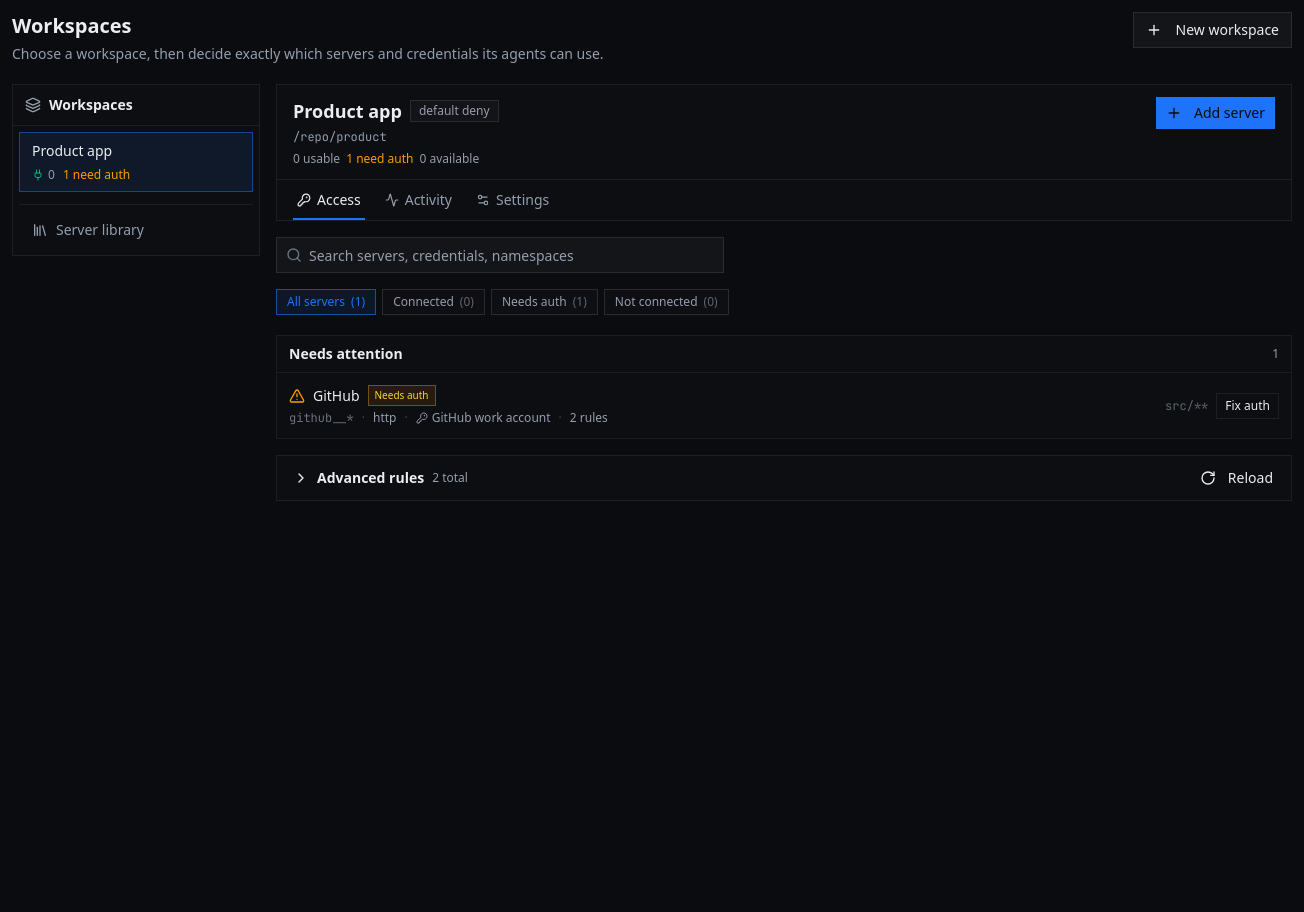
unified workspace console › switches from access to inline settings without leaving the console
Check: the heading "Product app" is shown, box [293,97,402,125]
Click the button with test id "workspace-section-settings" at coordinates (513, 200), box [464,180,561,220]
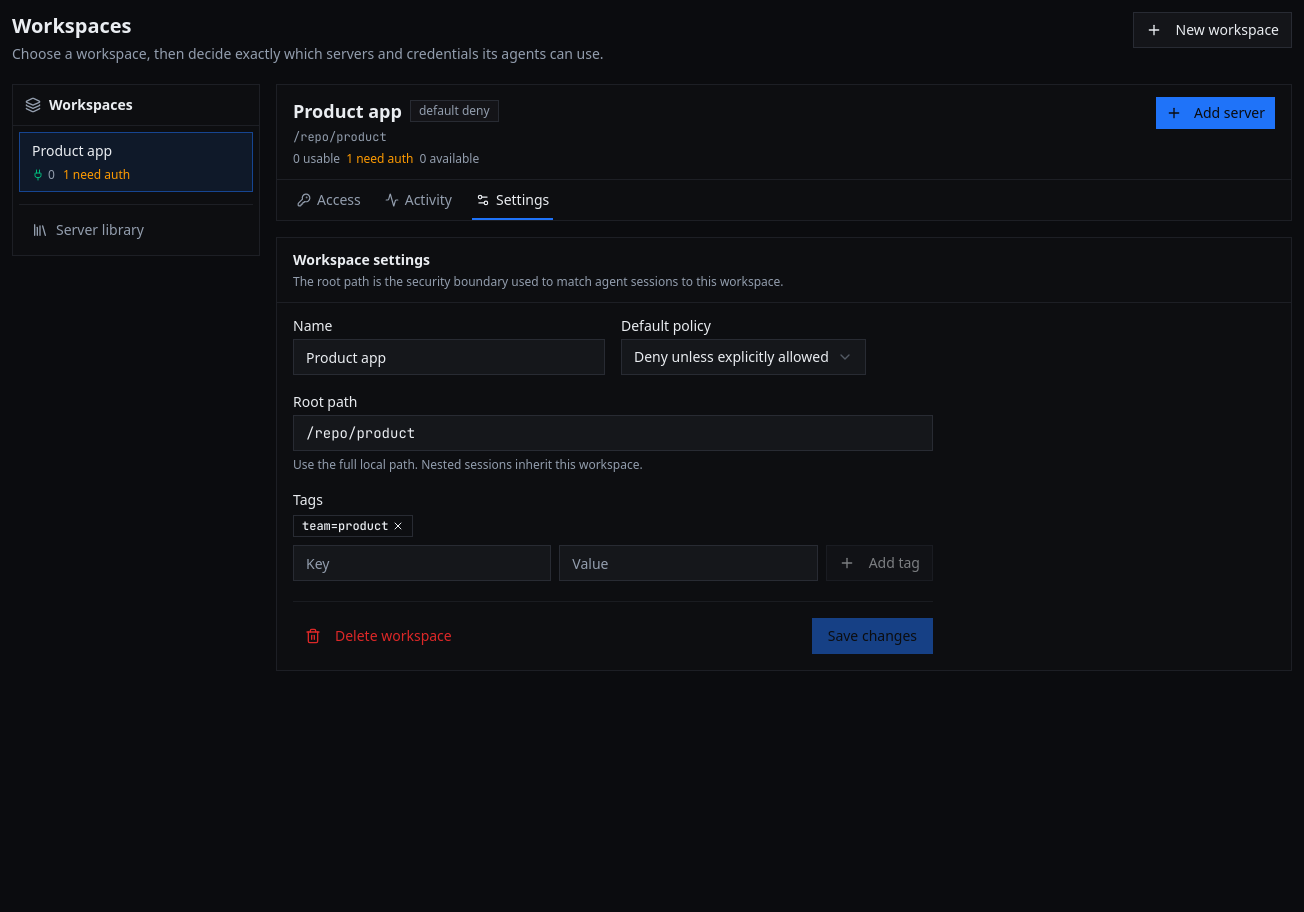
Check: the field showing "/repo/product" is shown, box [293,415,933,451]
Check: the element with test id "workspace-settings-panel" is shown, box [276,237,1292,671]
